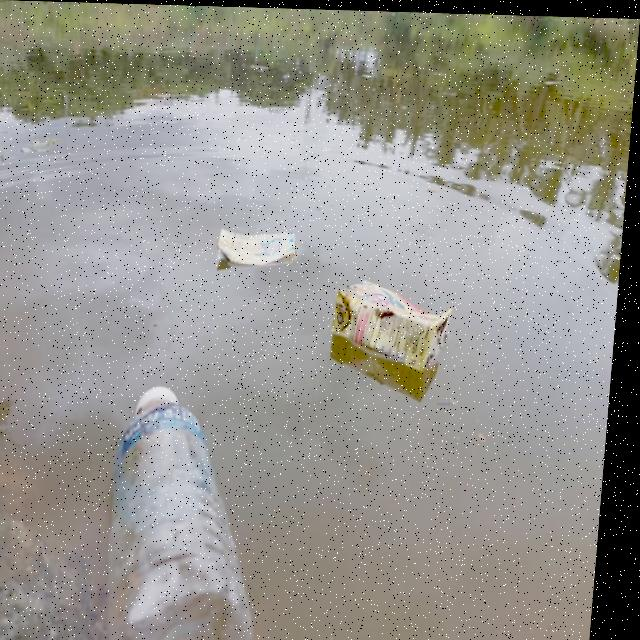paper: (330, 269, 465, 368), (213, 221, 329, 277)
waterbottle: (102, 365, 287, 640)
